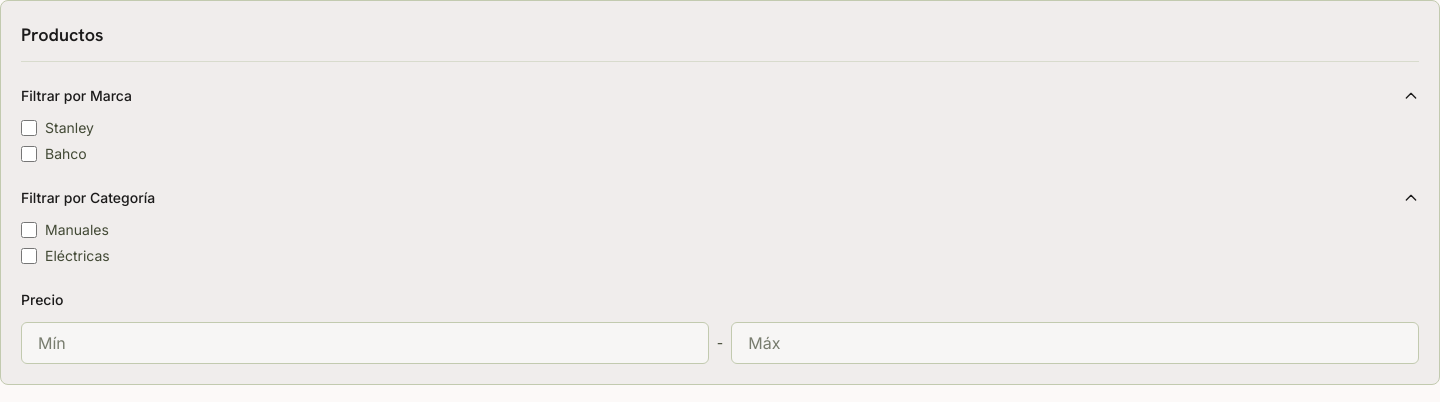
Test: Filtrado › puede colapsar/expandir sección de categorías
Check: the text "Manuales" is shown, box [21, 221, 109, 238]
Click the button "Filtrar por Categoría".
click(88, 198)  # box [21, 188, 1419, 208]
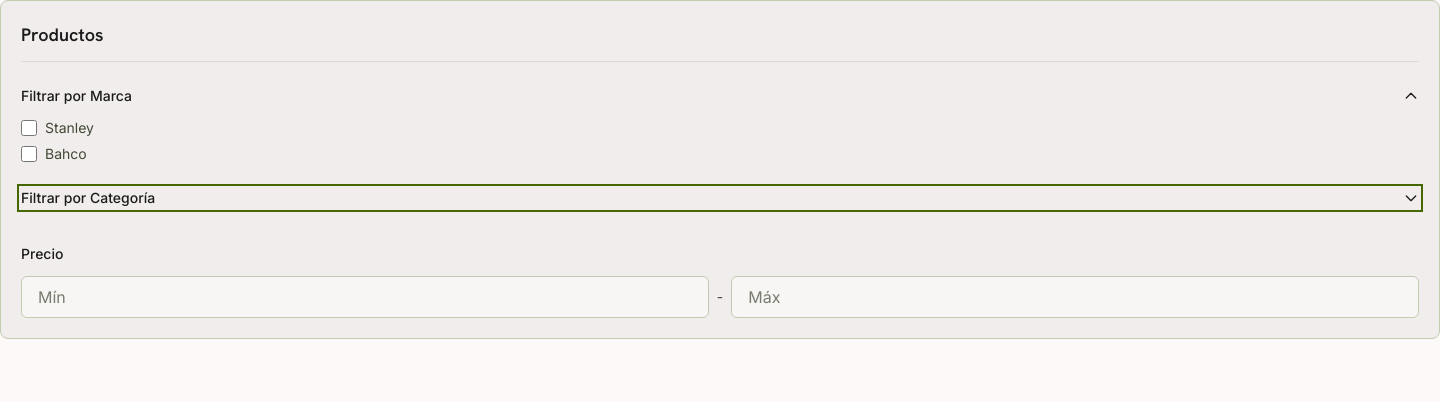
Check: the text "Manuales" is gone
